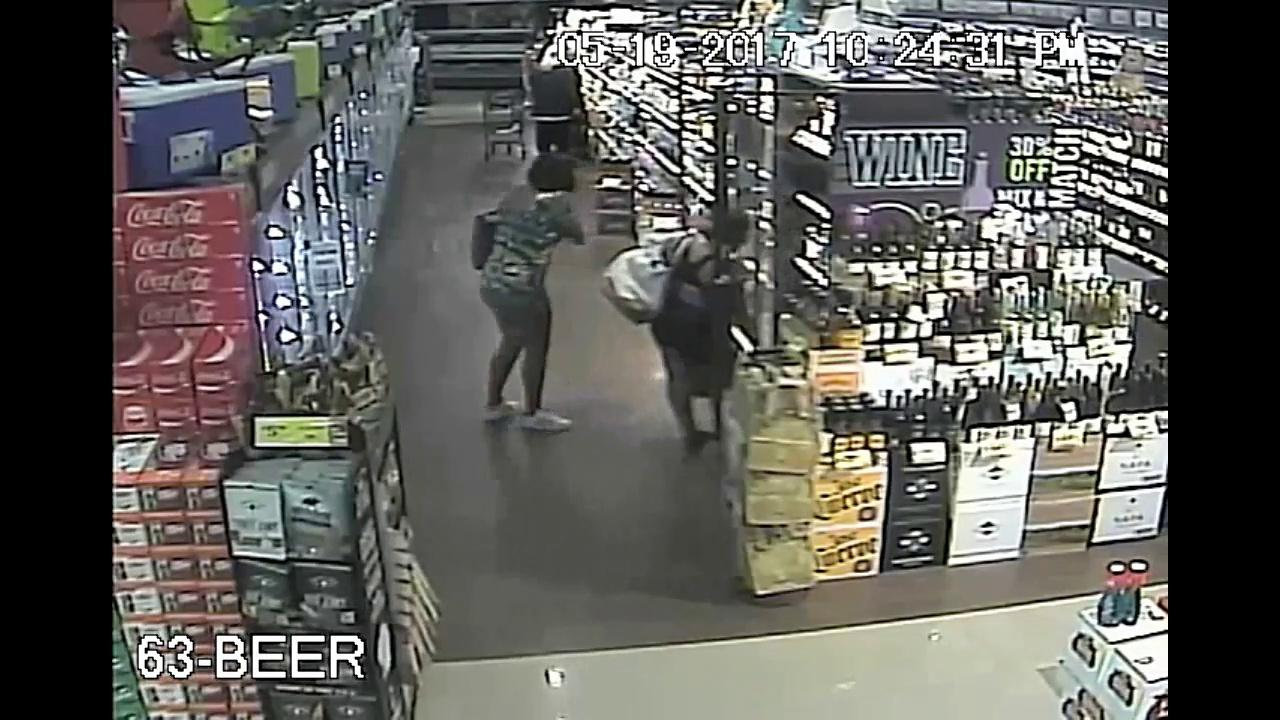3: (511, 27, 596, 171)
4: (641, 189, 799, 439), (467, 145, 591, 436)
persone: (606, 236, 672, 329), (467, 201, 512, 281)
